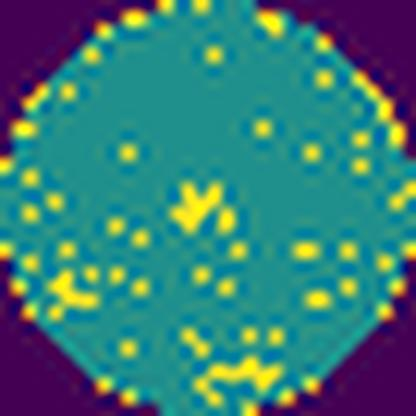Center: (163, 168, 230, 238)
